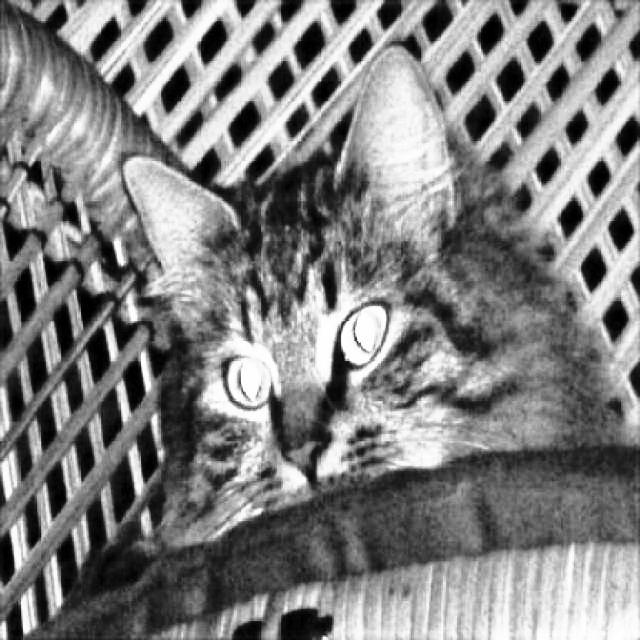Cat: (124, 37, 637, 559)
